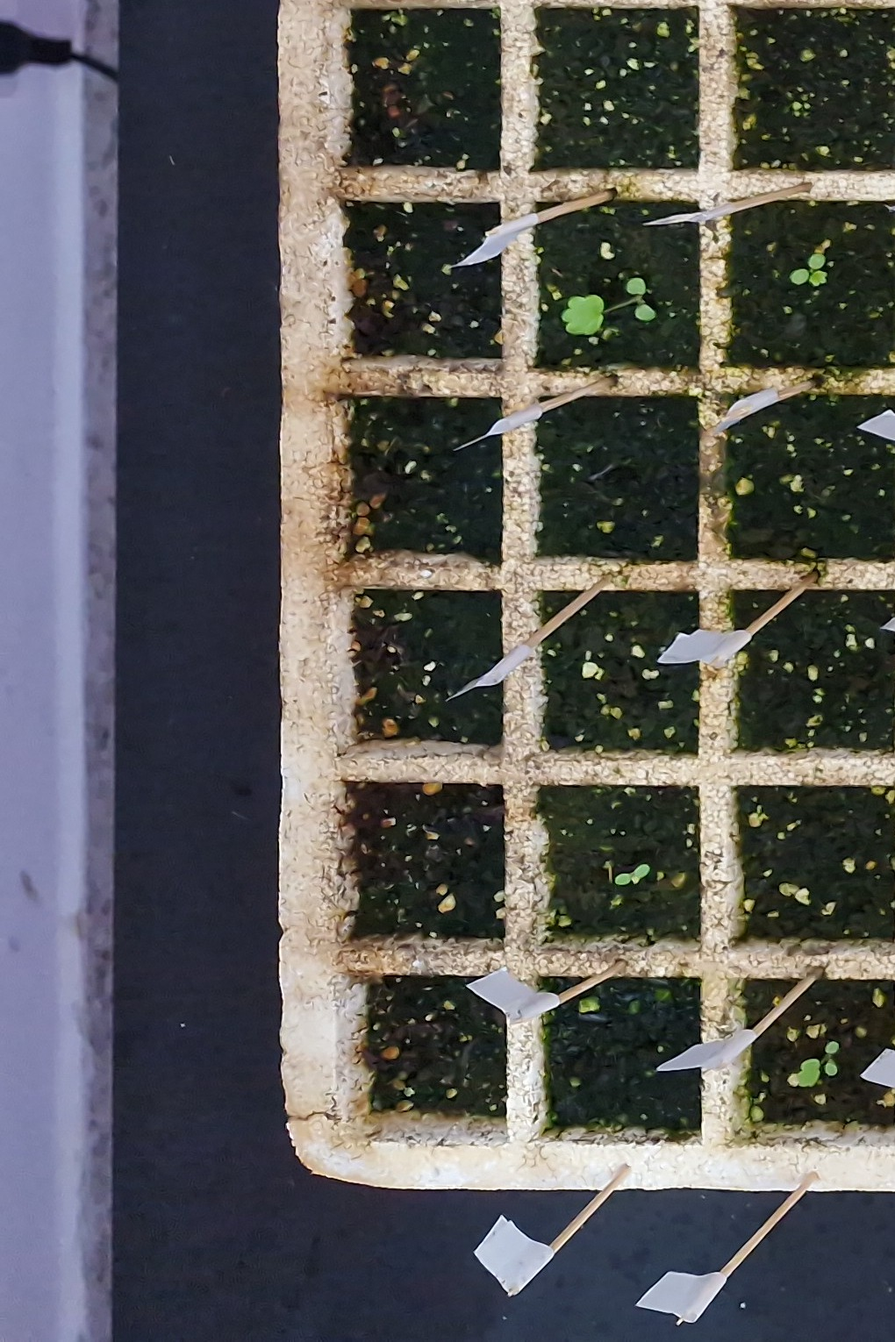Folha: (562, 295, 603, 334), (796, 1059, 820, 1086), (635, 304, 656, 321), (626, 278, 646, 294), (810, 270, 828, 286), (790, 270, 809, 284), (808, 254, 825, 269), (634, 865, 650, 878), (825, 1062, 837, 1076), (615, 874, 630, 885), (825, 1041, 838, 1053)
Germinacao: (562, 278, 656, 335), (797, 1042, 839, 1087), (789, 253, 827, 286), (615, 864, 650, 885)
